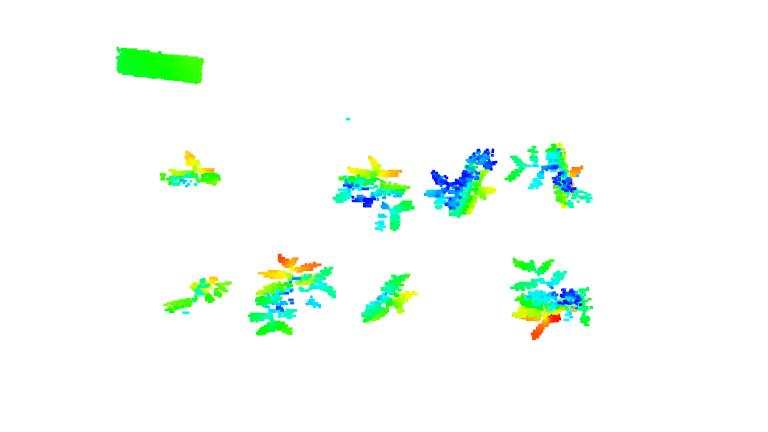chickpea: (248, 253, 339, 337), (509, 255, 595, 341), (331, 153, 420, 235), (504, 141, 596, 212), (422, 145, 498, 221), (357, 270, 421, 327), (160, 271, 233, 317), (159, 149, 229, 188)
